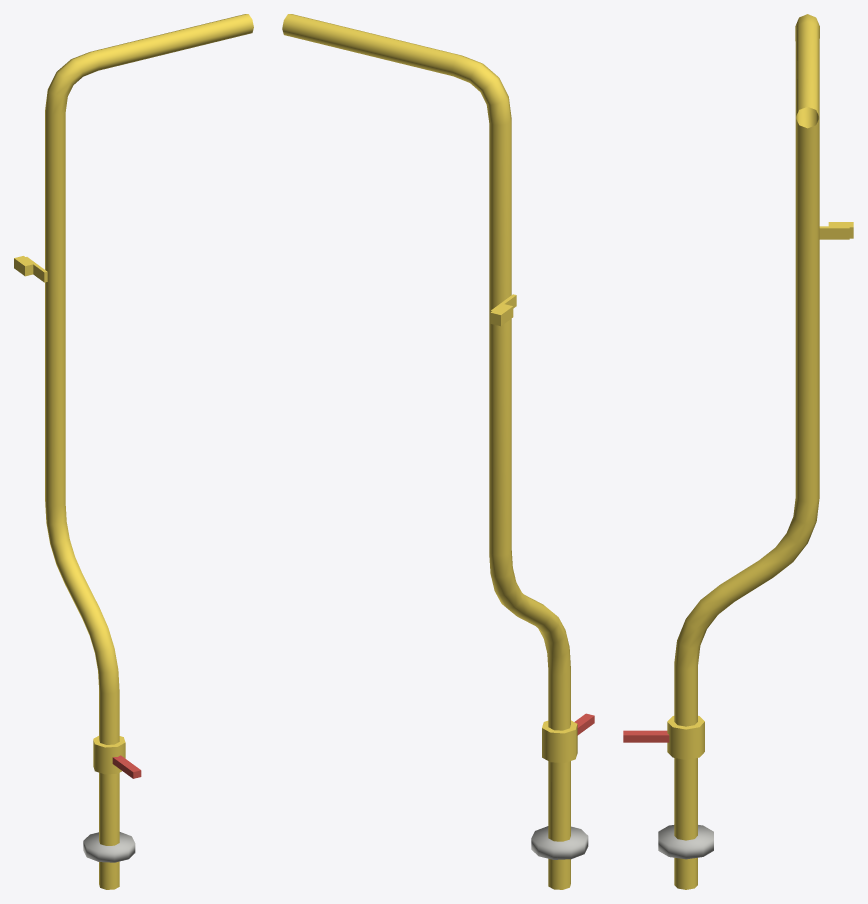
Rendered from gas_pipe_ground_entry.glb.
The picture shows the model from 3 angles, left to right: view 1: azimuth 30°, elevation 25°; view 2: azimuth 150°, elevation 25°; view 3: azimuth 270°, elevation 25°; orthographic projection. The views are drawn at different scales.
Visible parts, largest first — view 1: gas_pipe_ground_entry; view 2: gas_pipe_ground_entry; view 3: gas_pipe_ground_entry.
Boxes of the visible parts, left/top/right/bottom form: gas_pipe_ground_entry: left=14, top=14, right=253, bottom=889; gas_pipe_ground_entry: left=282, top=14, right=594, bottom=889; gas_pipe_ground_entry: left=623, top=14, right=853, bottom=889.
Size of the model in its own units: 0.67 by 2.33 by 0.55.
